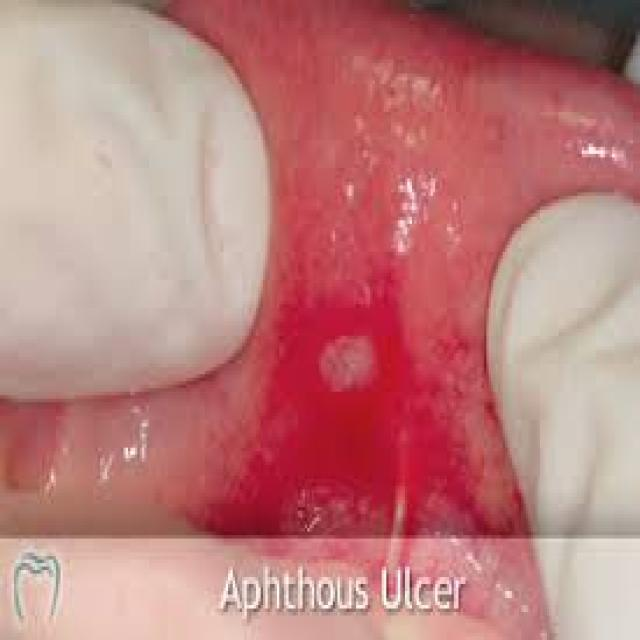processing_area: (0, 0, 638, 537)
ulcer-detection: (195, 268, 459, 543)
